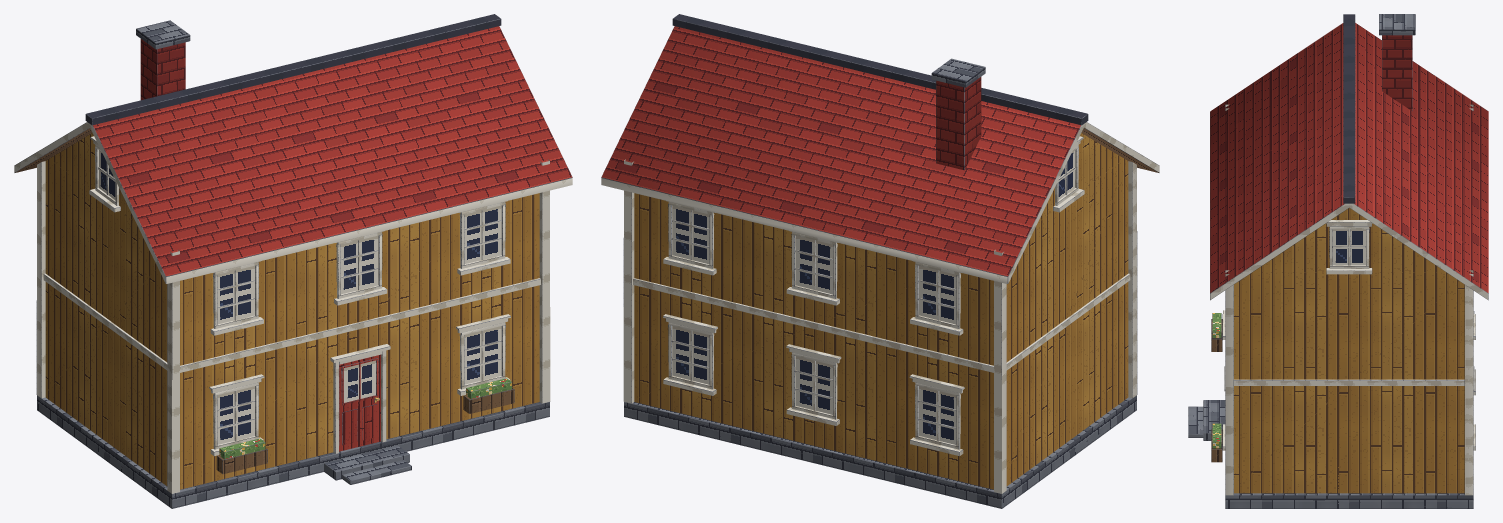
The model's file is town_house_11.glb.
The picture shows the model from 3 angles, left to right: view 1: azimuth 30°, elevation 25°; view 2: azimuth 150°, elevation 25°; view 3: azimuth 270°, elevation 25°; orthographic projection. The views are drawn at different scales.
Parts seen in each view (by area): view 1: town_house_12; view 2: town_house_12; view 3: town_house_12.
Part boxes in pixels (x1,y1,x2,y2): town_house_12: (14,14,572,508); town_house_12: (601,14,1159,508); town_house_12: (1188,14,1488,508).
Size of the model in its own units: 9.96 by 9.02 by 6.9.
12 materials, 12 textured.
